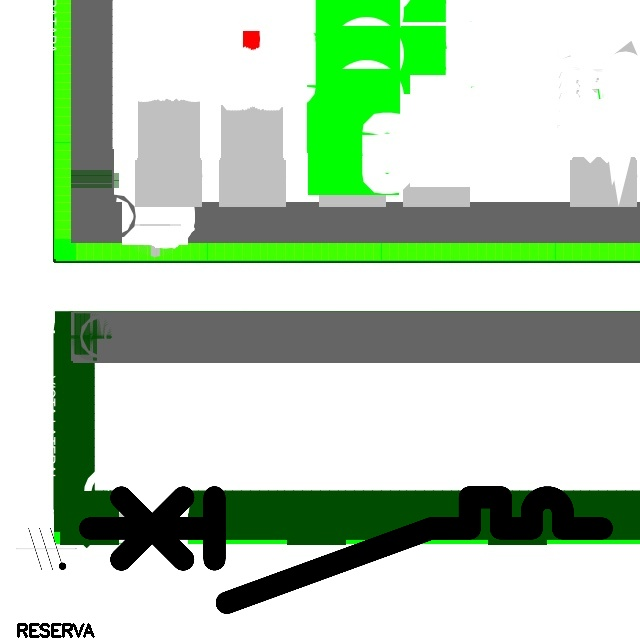interruptor_termomagnetico: (76, 484, 614, 616)
